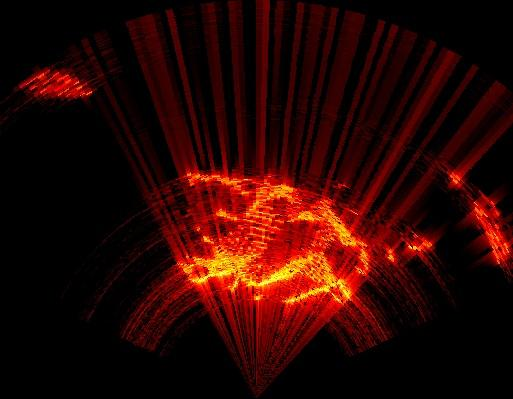shipwreck: (182, 168, 372, 302)
